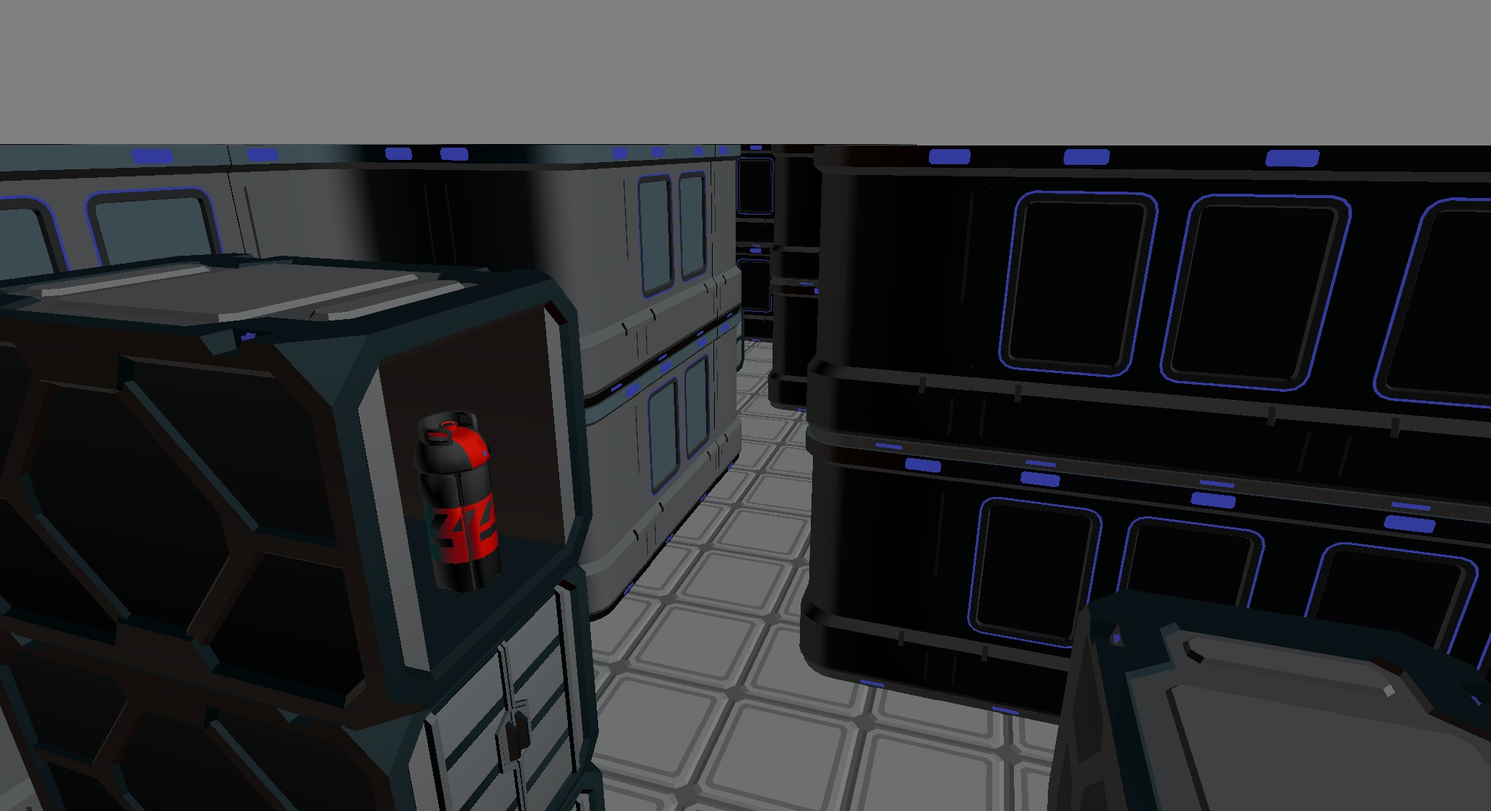red_barrel: (415, 412, 500, 591)
